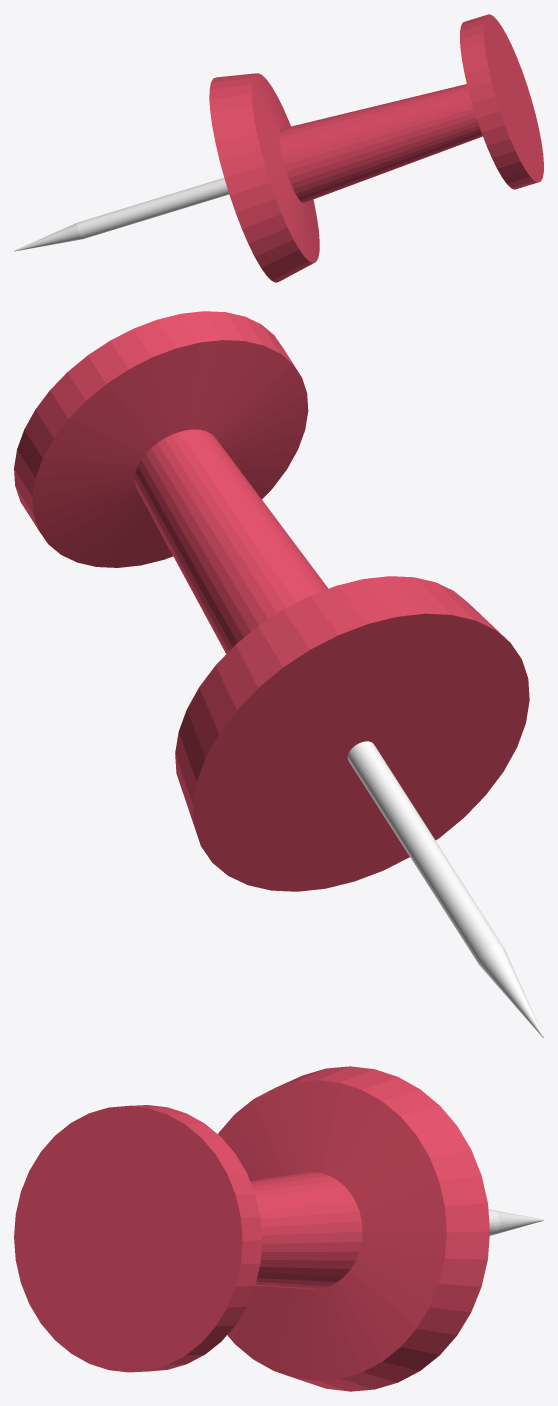
The model's file is pin.glb.
The picture shows the model from 3 angles, top to bottom: view 1: azimuth 30°, elevation 25°; view 2: azimuth 150°, elevation 25°; view 3: azimuth 270°, elevation 25°; orthographic projection. The views are drawn at different scales.
Parts seen in each view (by area): view 1: Pin; view 2: Pin; view 3: Pin.
Part boxes in pixels (x1,y1,x2,y2): Pin: [14, 14, 543, 282]; Pin: [14, 311, 543, 1037]; Pin: [14, 1066, 543, 1391].
Bounding box in the file's own units: 26.91 × 15.95 × 19.87.
